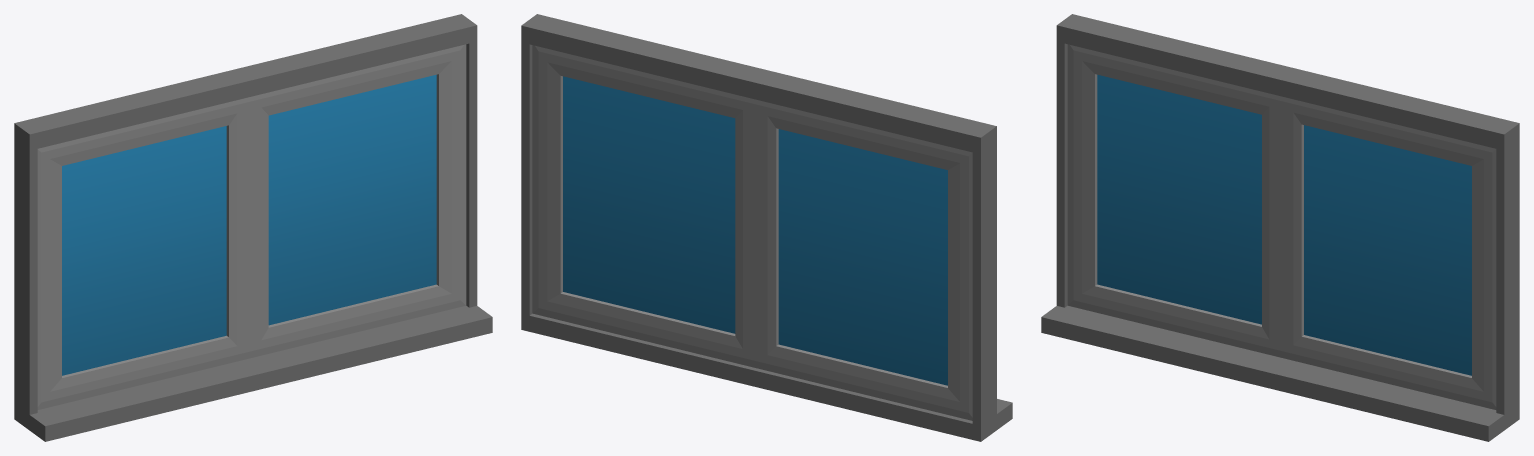
Rendered from WindowLarge04.fbx.
The picture shows the model from 3 angles, left to right: view 1: azimuth 30°, elevation 25°; view 2: azimuth 150°, elevation 25°; view 3: azimuth 330°, elevation 25°; orthographic projection. The views are drawn at different scales.
Visible parts, largest first — view 1: WindowLarge04; view 2: WindowLarge04; view 3: WindowLarge04.
Part boxes in pixels (x1,y1,x2,y2): WindowLarge04: [14, 14, 492, 441]; WindowLarge04: [521, 14, 1012, 441]; WindowLarge04: [1041, 14, 1519, 441].
Bounding box in the file's own units: 167 × 106 × 20.
